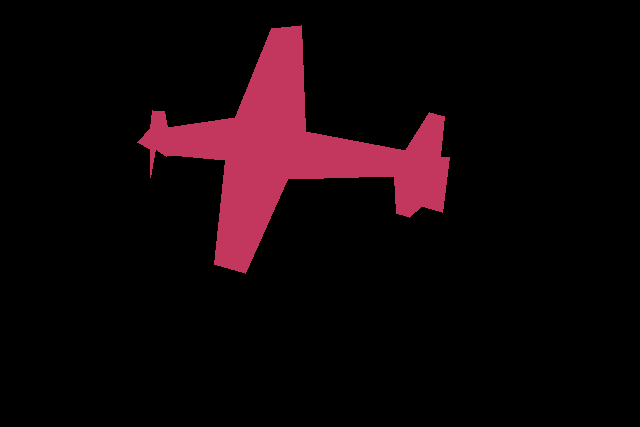Airplane: (137, 25, 450, 273)
